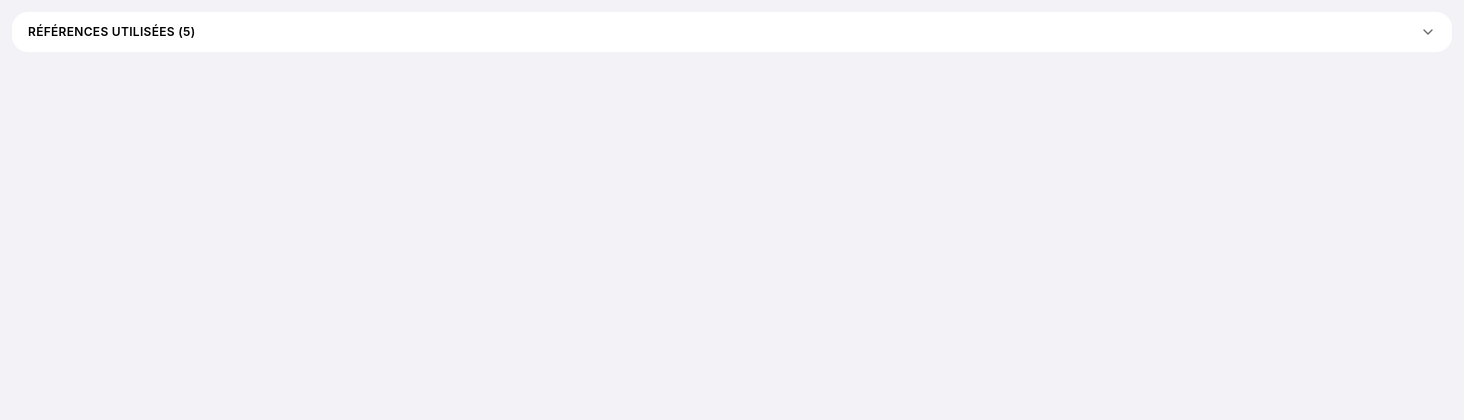
Test case: ReferencesPanel › affiche extrait, catégorie, date, score et raison de chaque référence
Click the button "Références utilisées (5)" at (105, 32), box [12, 12, 1452, 52]
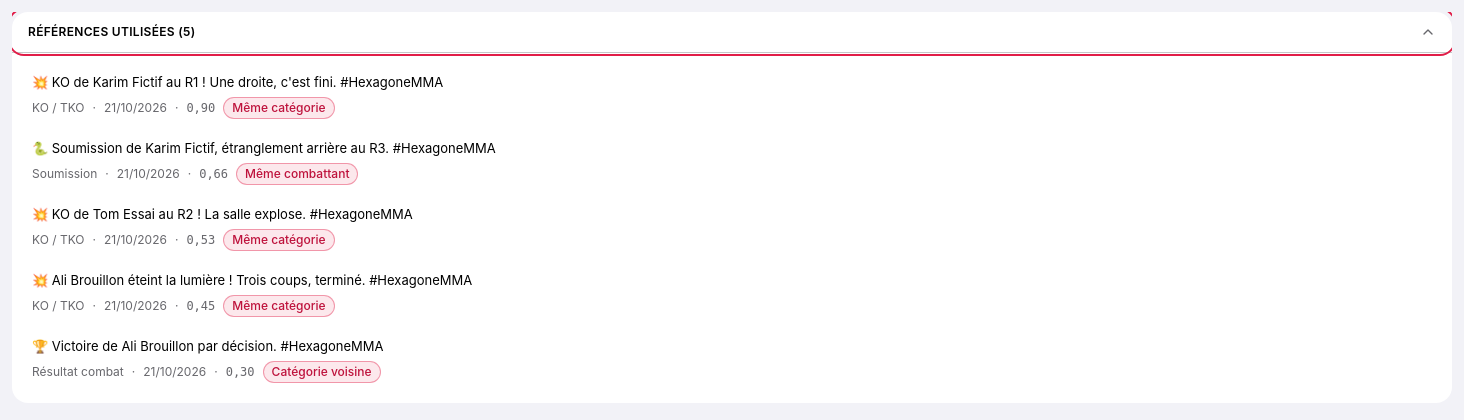
Check: the button with aria-label "Voir la référence" shows "KO de Karim Fictif", box [24, 65, 1440, 127]
Check: the button with aria-label "Voir la référence" shows "KO / TKO", box [24, 65, 1440, 127]
Check: the button with aria-label "Voir la référence" reads "💥 KO de Karim Fictif au R1 ! Une droite, c'est fini. #HexagoneMMA KO / TKO · 21", box [24, 65, 1440, 127]
